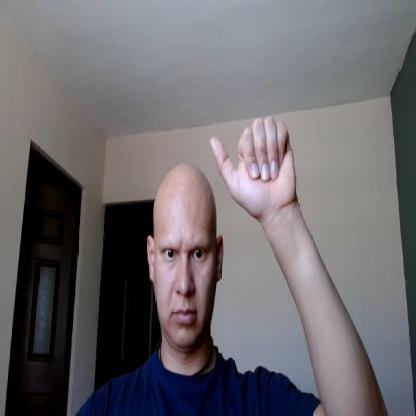A: (211, 116, 297, 218)
